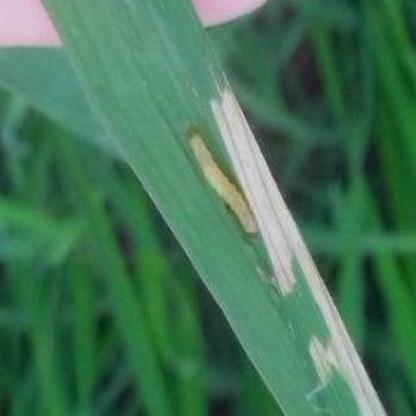leaf-folder: (168, 108, 283, 255)
